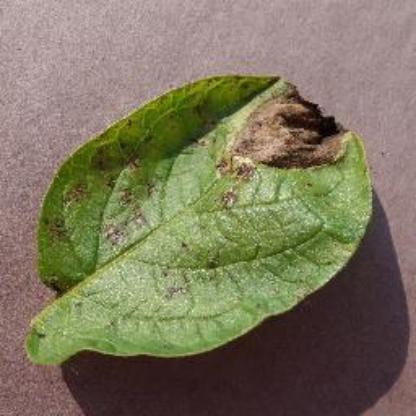Late-Blight: (34, 67, 378, 392)
